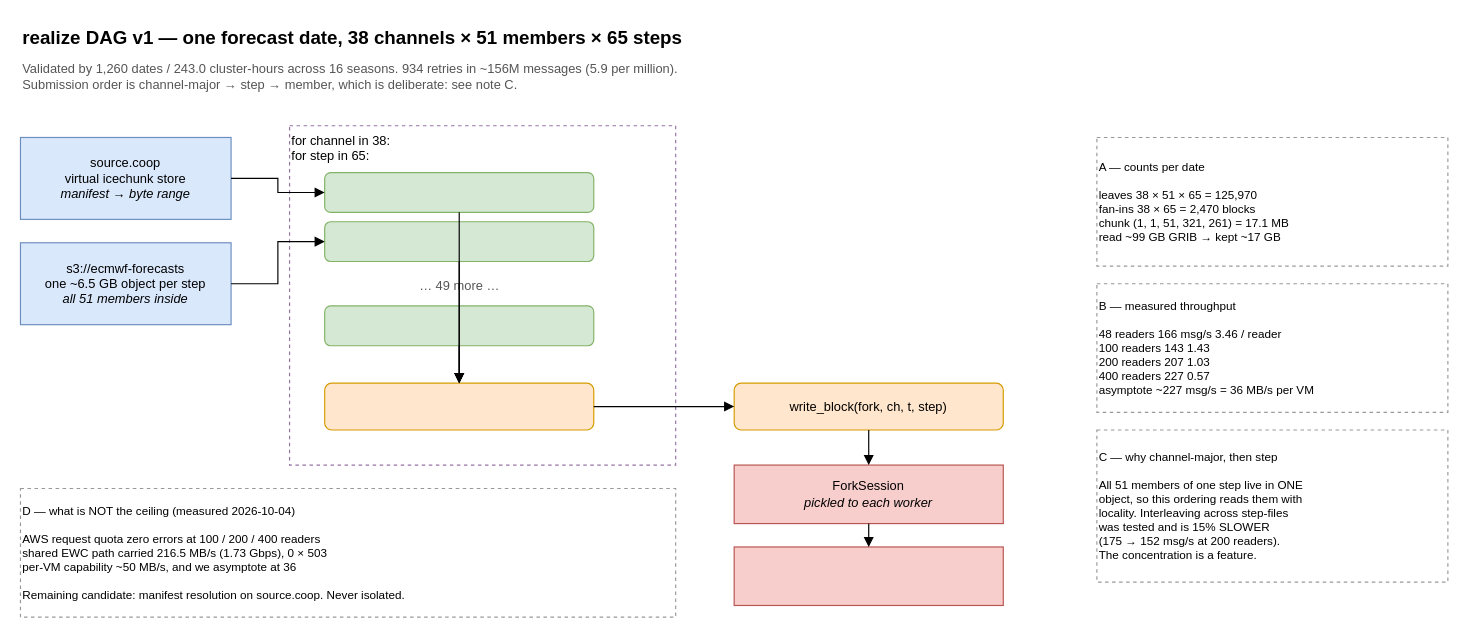
This 1468x638 diagram has some shape labels left out. Here are the shapes that lost their labels. From the top down, the centre of each, then its label:
(459,191): read_message(ch, step, member=0)
(459,241): read_message(ch, step, member=1)
(459,325): read_message(ch, step, member=50)
(459,406): stack_members(*51) fan-in, not a reduction
(868,575): merge → one commit per date ceph must-icechunk
